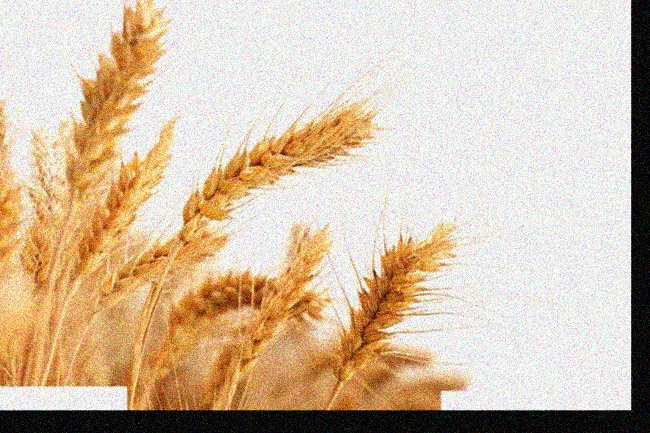wheat: (171, 90, 384, 251), (333, 220, 455, 391)
